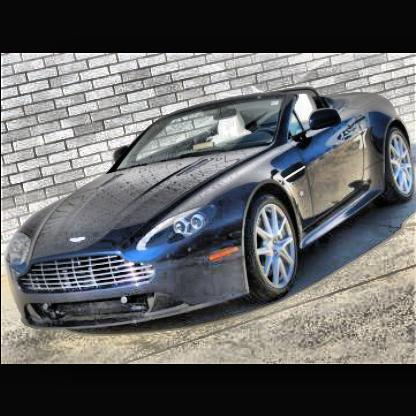Aston Martin V8 Vantage Convertible 2012: (8, 88, 415, 332)
